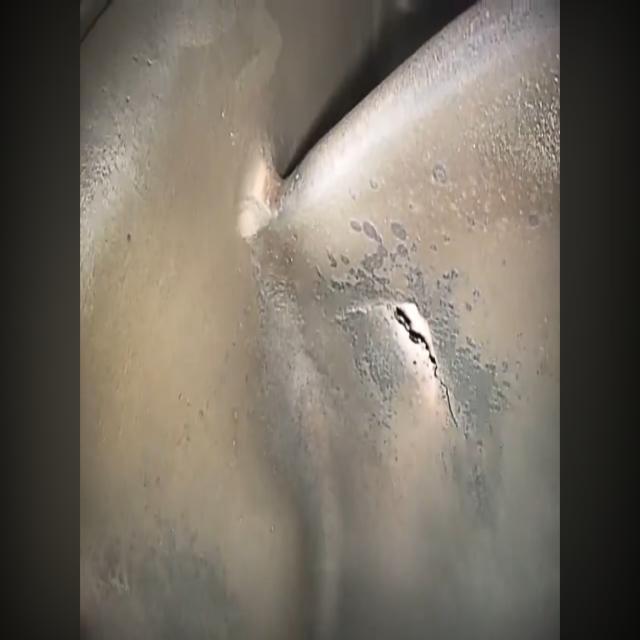crack: (390, 297, 461, 433), (401, 308, 425, 361), (437, 367, 458, 425), (425, 339, 442, 376)
turbine_blade: (241, 1, 560, 639)
